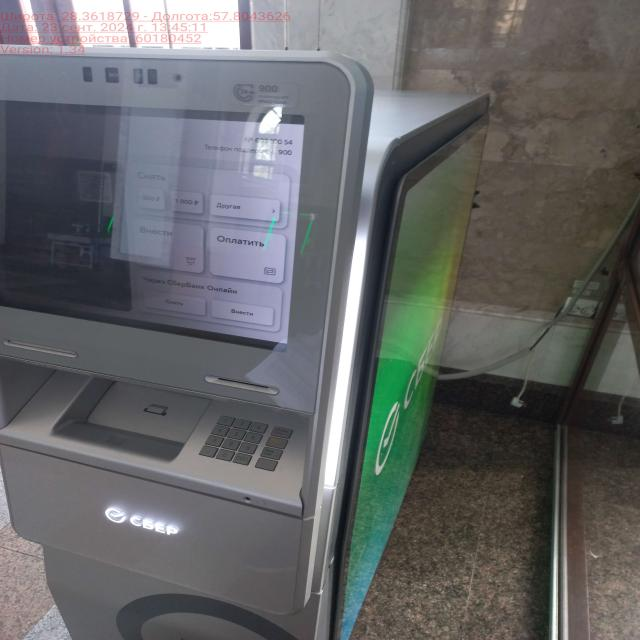bank: (0, 41, 491, 640)
